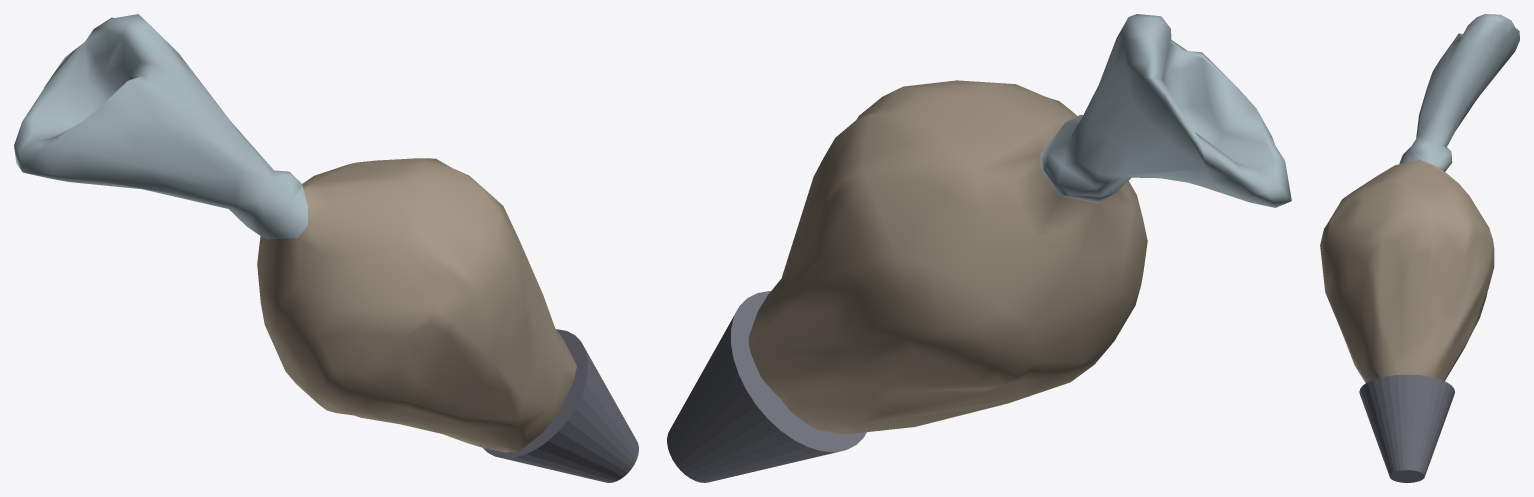
Rendered from yoghurt_infill_pickup.fbx.
3 renders of one model, left to right at view 1: azimuth 30°, elevation 25°; view 2: azimuth 150°, elevation 25°; view 3: azimuth 270°, elevation 25°, orthographic. The views are drawn at different scales.
Parts seen in each view (by area): view 1: PM3D_Cone3D1; view 2: PM3D_Cone3D1; view 3: PM3D_Cone3D1.
Boxes of the visible parts, box(x1,y1,x2,y2) form: PM3D_Cone3D1: box(14, 14, 638, 482); PM3D_Cone3D1: box(667, 14, 1291, 482); PM3D_Cone3D1: box(1320, 14, 1519, 482).
Bounding box in the file's own units: 146 × 131 × 70.01.
